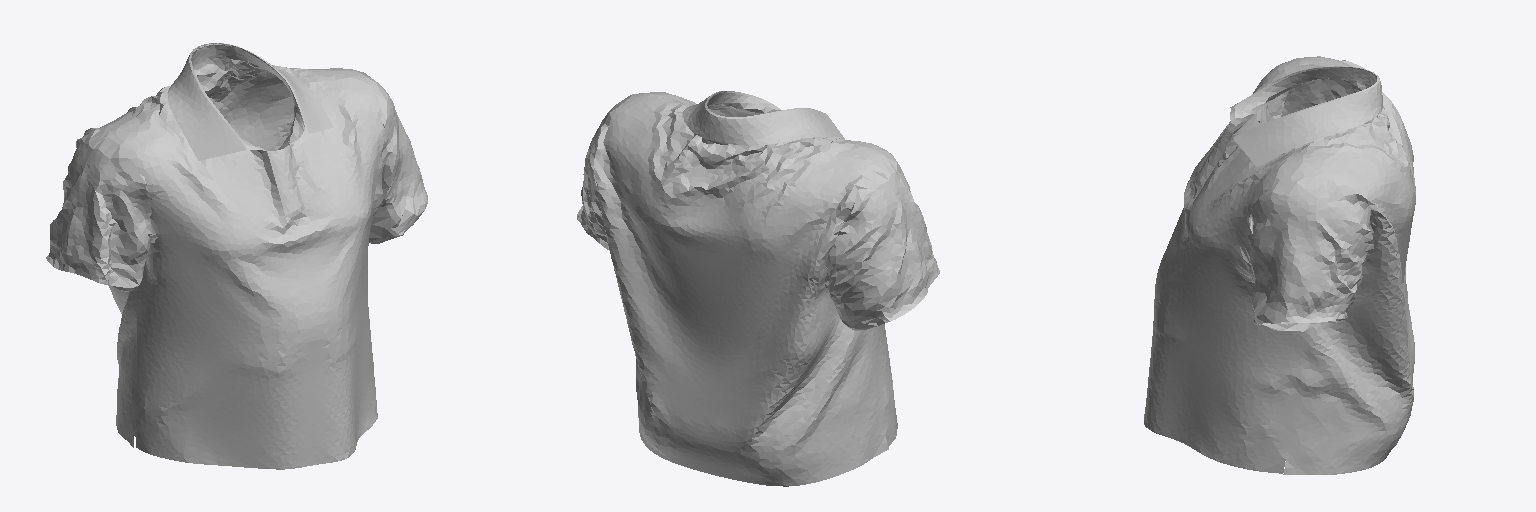
The model's file is XL_Short.obj.
The picture shows the model from 3 angles: view 1: azimuth 30°, elevation 25°; view 2: azimuth 150°, elevation 25°; view 3: azimuth 270°, elevation 25°; orthographic projection.
Visible parts, largest first — view 1: polo3-30.008; view 2: polo3-30.008; view 3: polo3-30.008.
Part boxes in pixels (x1,y1,x2,y2): polo3-30.008: (46,43,427,469); polo3-30.008: (577,91,939,486); polo3-30.008: (1144,56,1415,474).
Size of the model in its own units: 0.6824 by 0.6574 by 0.4611.